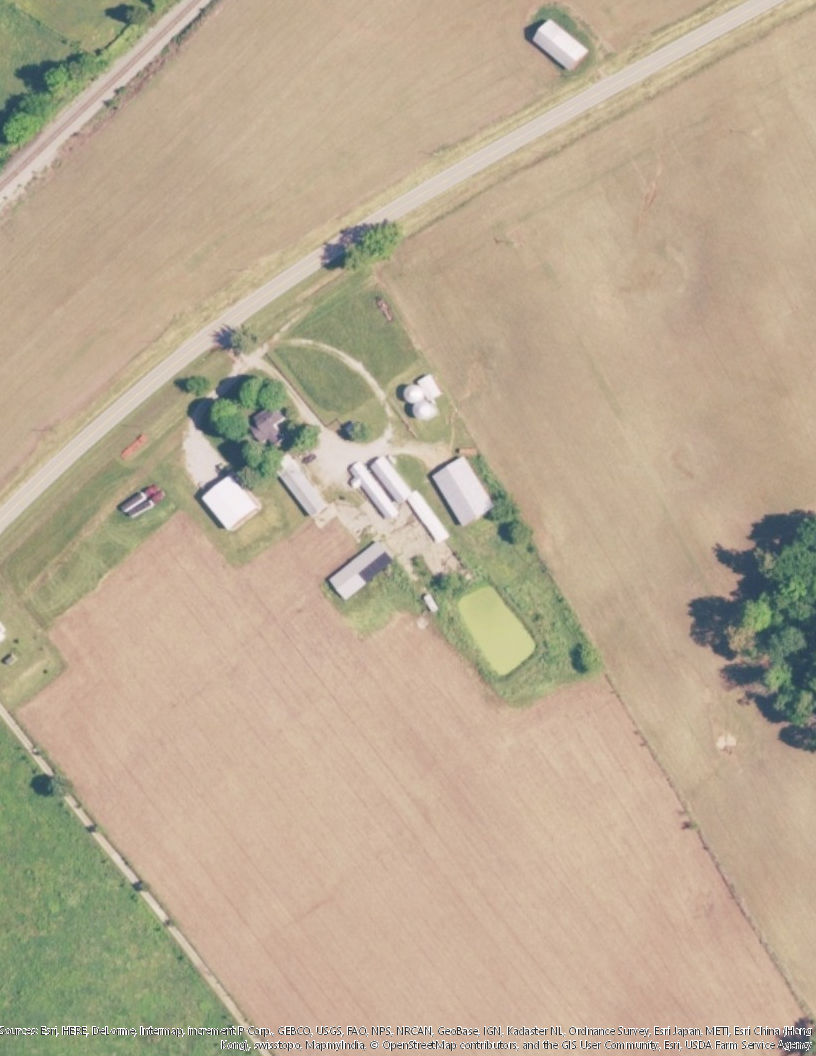cafo: (347, 457, 452, 551), (428, 447, 498, 528), (323, 537, 395, 605), (274, 461, 331, 520)
